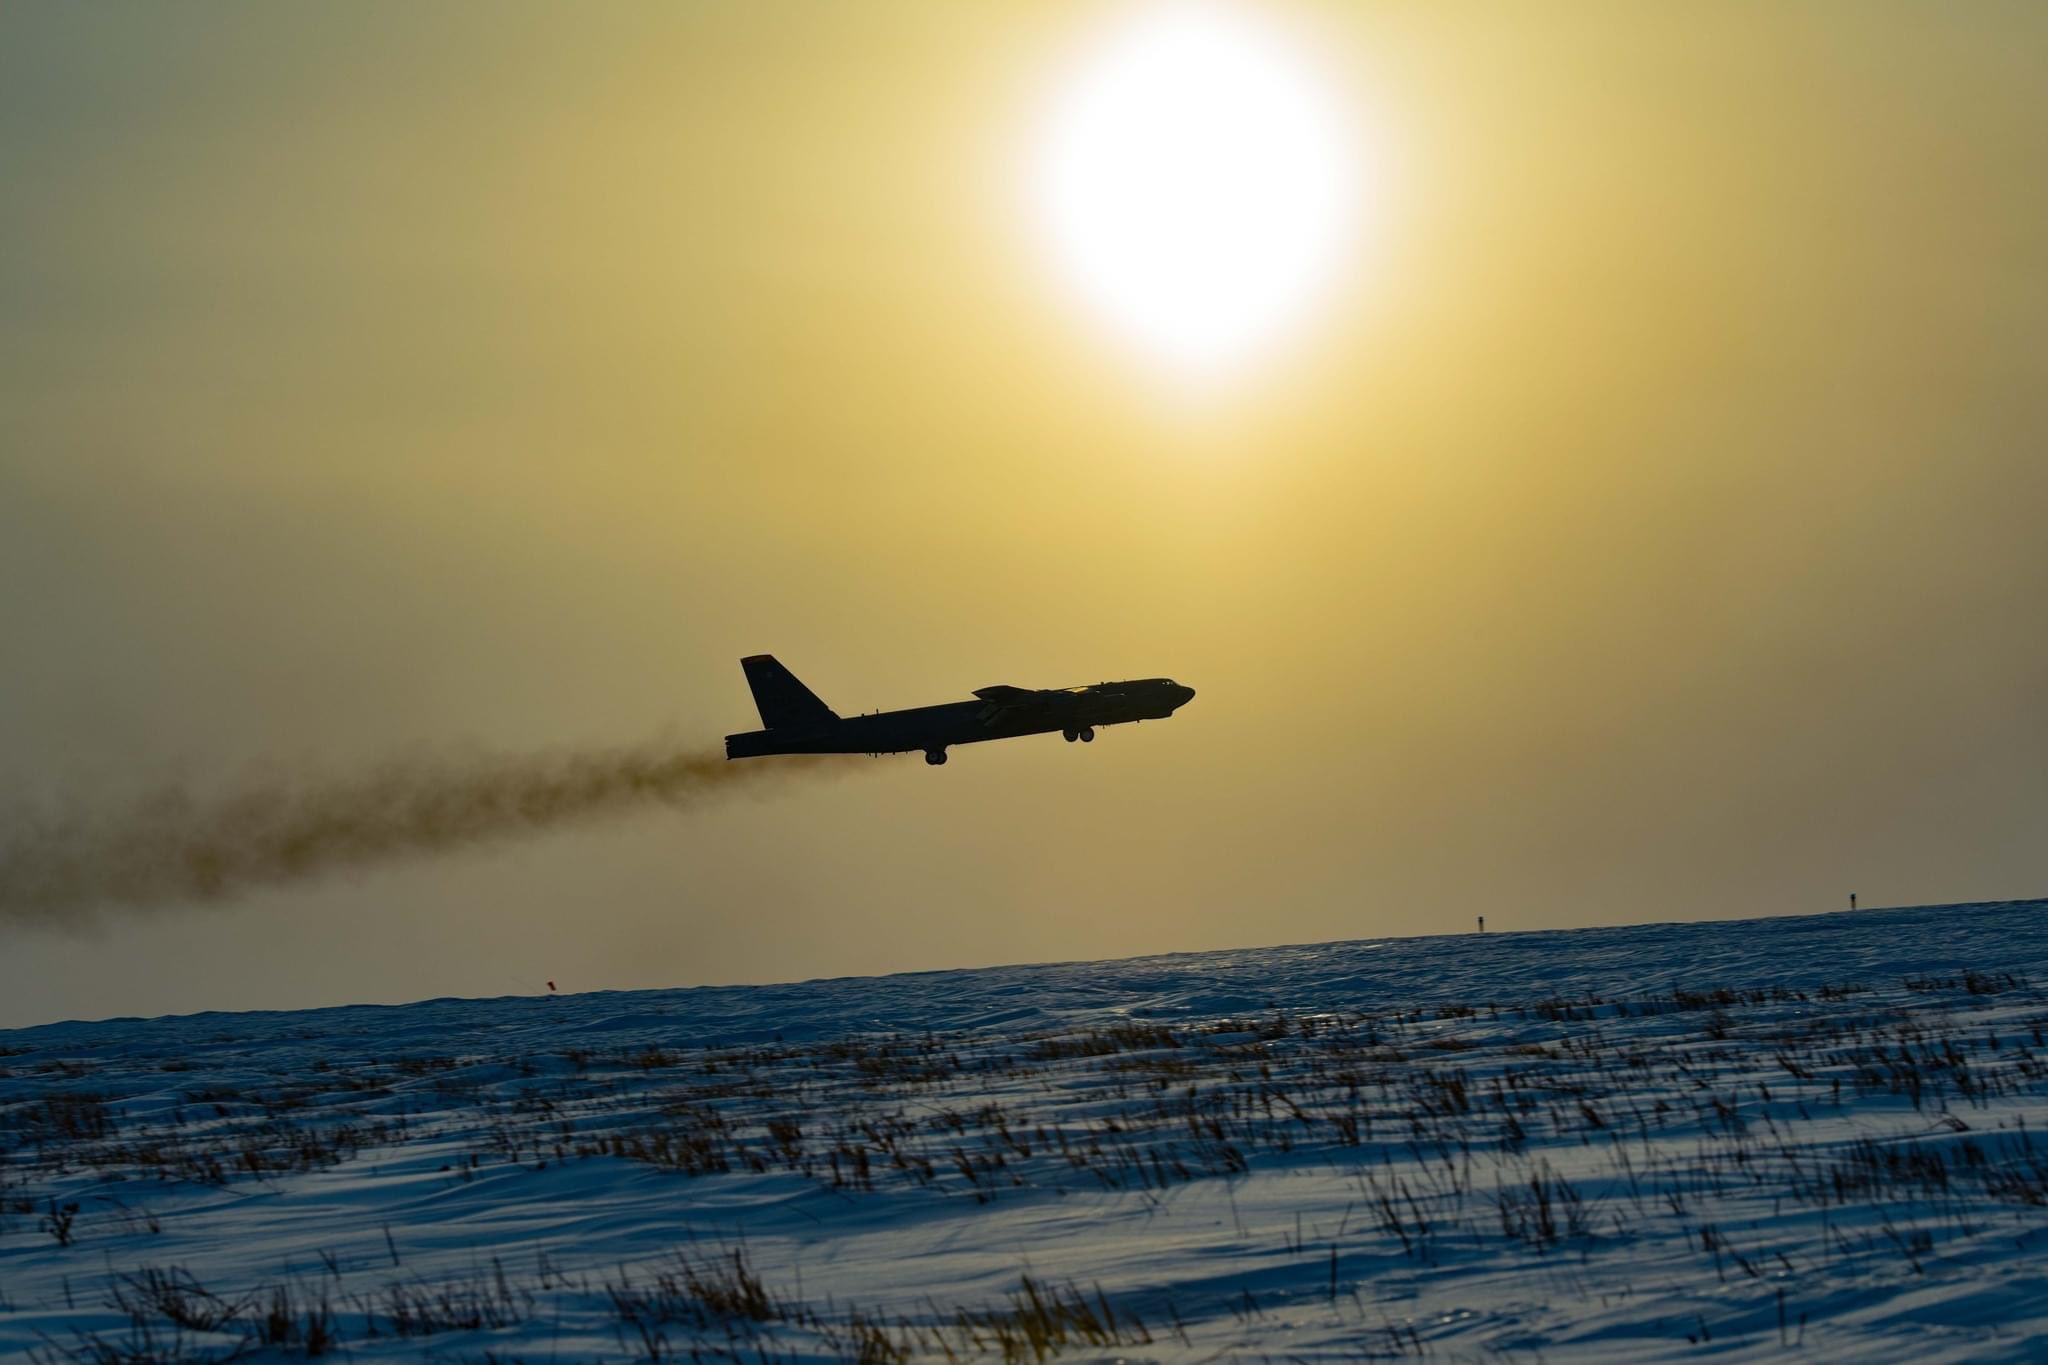B52: (723, 654, 1195, 766)
